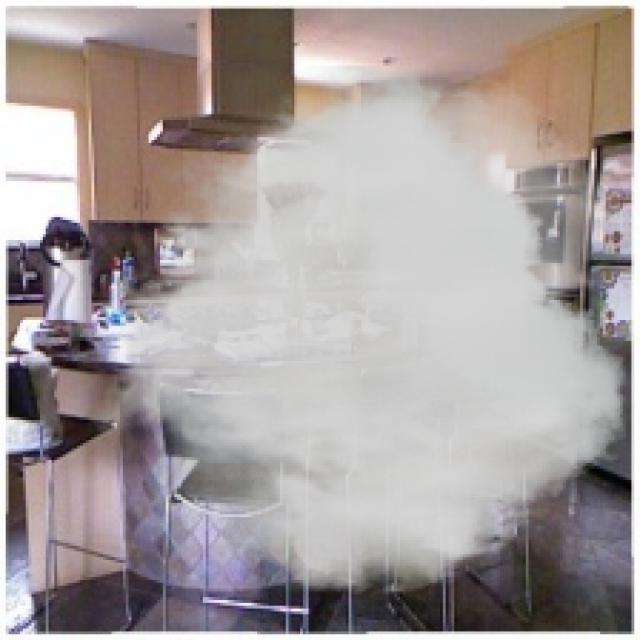smoke: (85, 66, 626, 600)
